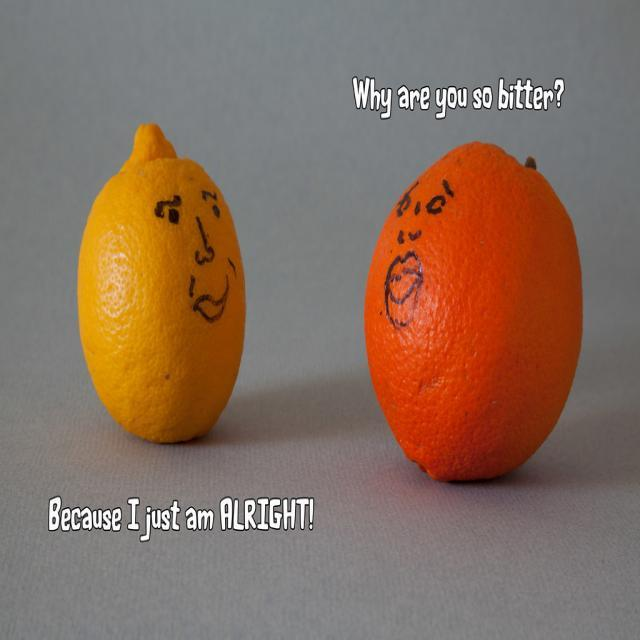Orange: (358, 144, 575, 476), (76, 129, 246, 439)
